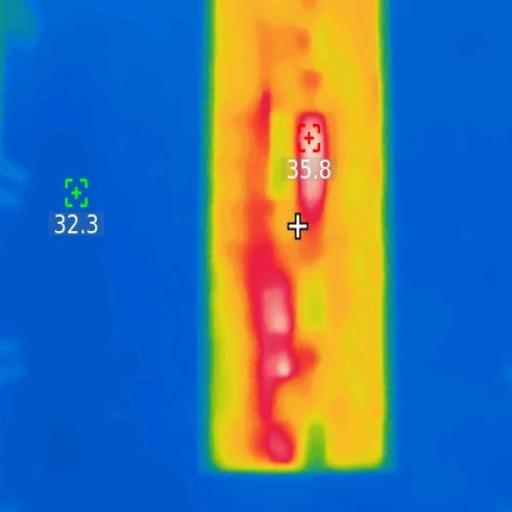hotspot: (251, 265, 294, 345), (297, 114, 329, 221), (259, 395, 291, 464), (262, 351, 310, 380), (258, 94, 270, 140)
